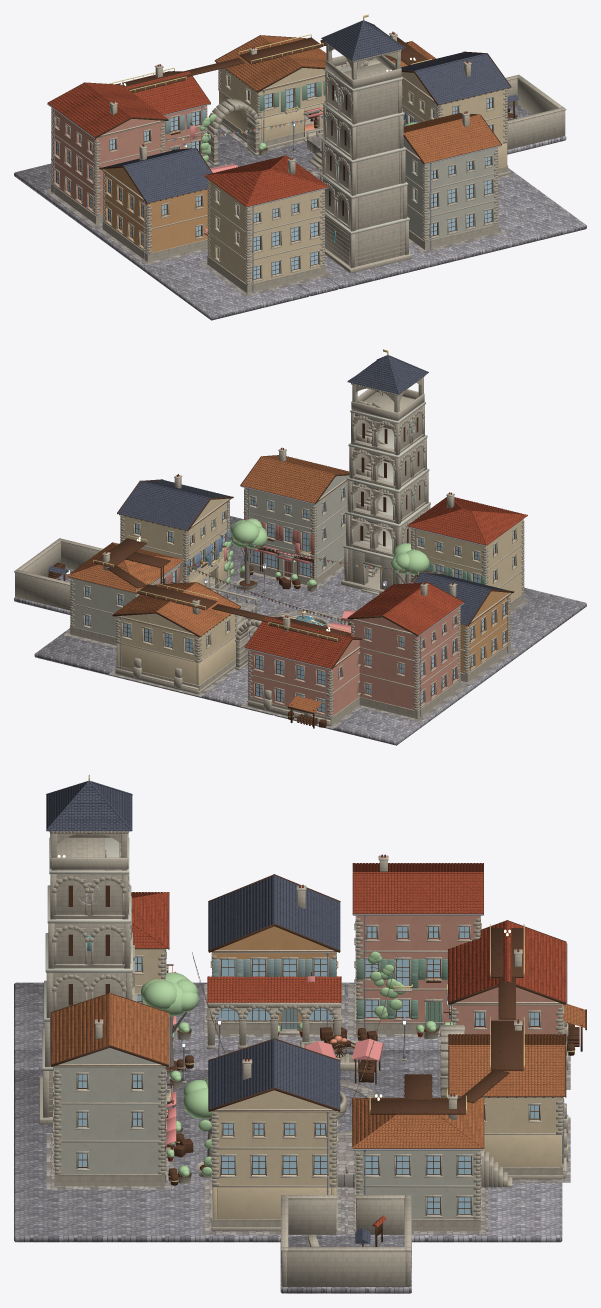
The model's file is town.glb.
3 renders of one model, top to bottom at view 1: azimuth 30°, elevation 25°; view 2: azimuth 150°, elevation 25°; view 3: azimuth 270°, elevation 25°, orthographic. The views are drawn at different scales.
Parts seen in each view (by area): view 1: TOWN, FLOOR; view 2: TOWN, FLOOR; view 3: TOWN, FLOOR.
Boxes of the visible parts, box(x1,y1,x2,y2) form: TOWN: box(43, 14, 566, 296); FLOOR: box(14, 104, 586, 320); TOWN: box(14, 349, 531, 728); FLOOR: box(14, 516, 586, 745); TOWN: box(39, 774, 586, 1286); FLOOR: box(14, 982, 562, 1293).
Size of the model in its own units: 52.8 by 29.79 by 41.81.
32 materials, 12 textured.
